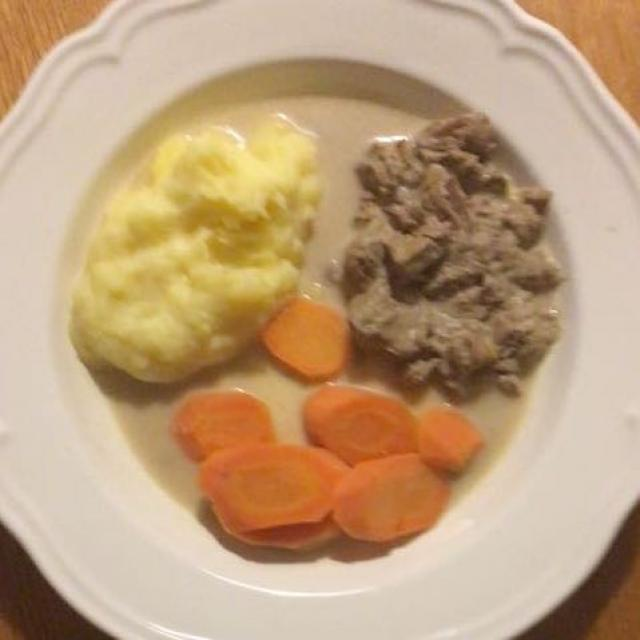beef: (345, 99, 582, 416)
carrot-raw: (150, 317, 470, 587)
mashed-potatoes-prepared-with-full-fat-milk-with-butter: (78, 117, 317, 377)
